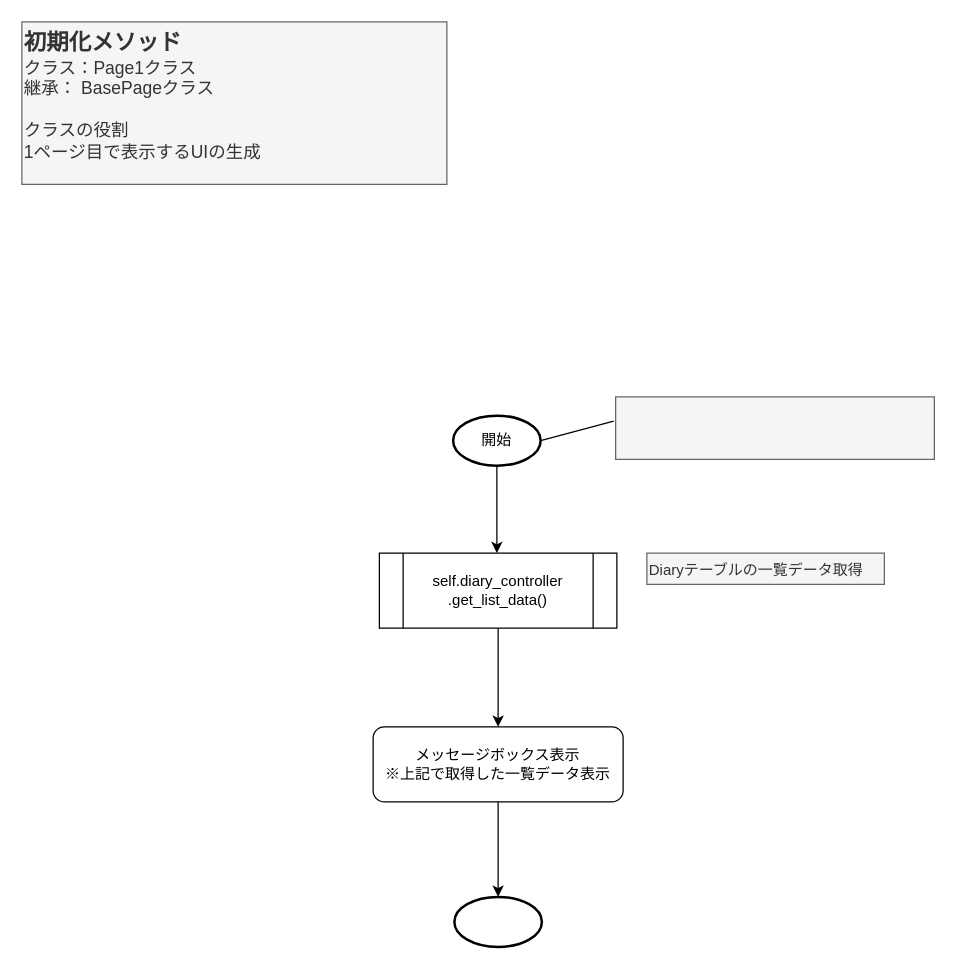
Some shapes in this 956 by 970 pixel diagram are drawn without their labels. The shapes that lost their labels are listed below. From the top down, each one's box as (x1, y1, x2, y2) in pixels, then its label:
(614, 396, 934, 459): 引数１：self 引数２：ページ番号：int型 ,
(452, 895, 542, 948): 終了
